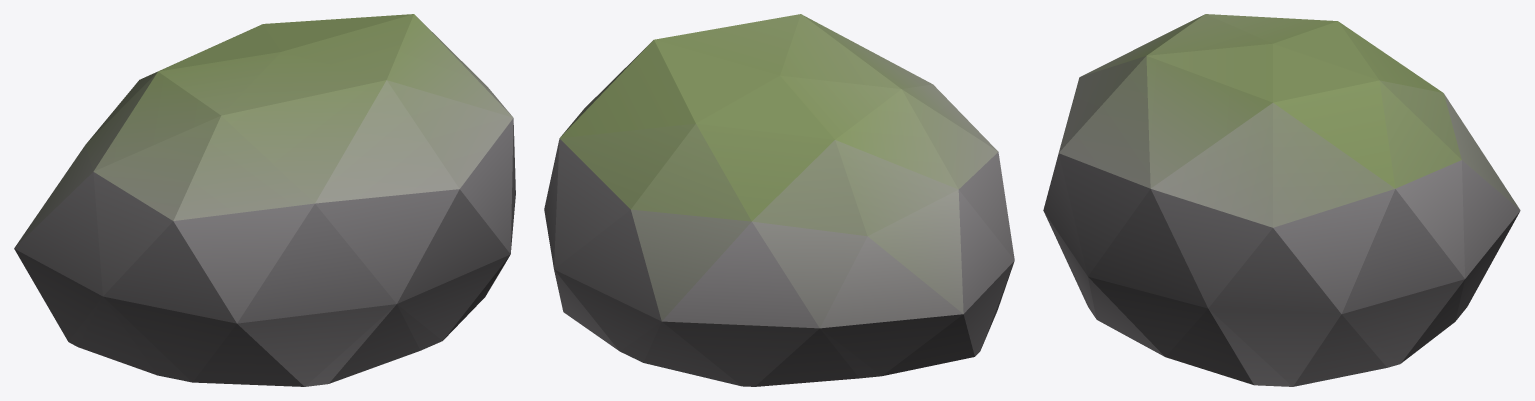
The model's file is node-stone.glb.
The picture shows the model from 3 angles, left to right: view 1: azimuth 30°, elevation 25°; view 2: azimuth 150°, elevation 25°; view 3: azimuth 270°, elevation 25°; orthographic projection. The views are drawn at different scales.
Parts seen in each view (by area): view 1: 0_stone; view 2: 0_stone; view 3: 0_stone.
Part boxes in pixels (<box>): 0_stone: <box>14,14,515,386</box>; 0_stone: <box>544,14,1014,386</box>; 0_stone: <box>1043,14,1520,386</box>.
Size of the model in its own units: 0.4329 by 0.2331 by 0.4051.
